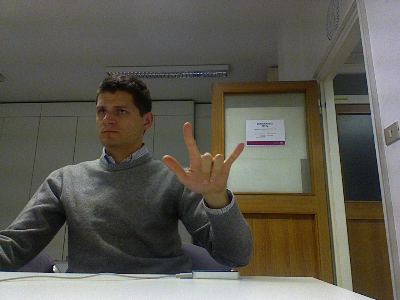我爱你: (159, 120, 244, 195)
